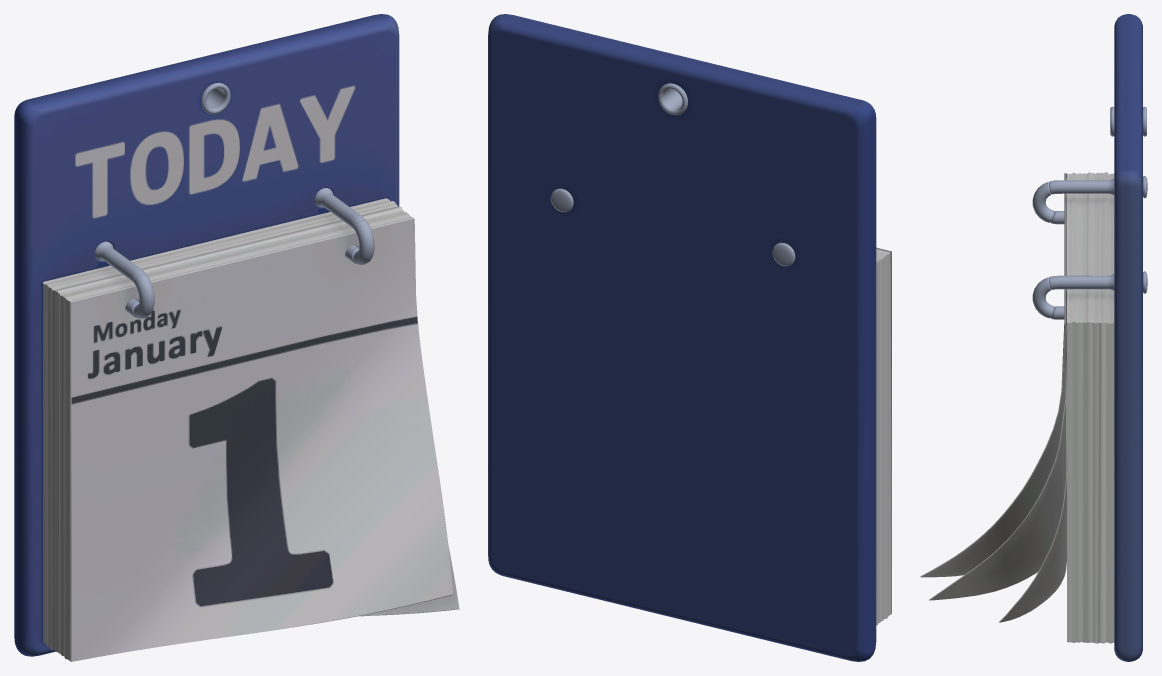
File: calendar 1.fbx
The picture shows the model from 3 angles, left to right: view 1: azimuth 30°, elevation 25°; view 2: azimuth 150°, elevation 25°; view 3: azimuth 270°, elevation 25°; orthographic projection. The views are drawn at different scales.
Visible parts, largest first — view 1: node_id53; view 2: node_id53; view 3: node_id53.
Boxes of the visible parts, left/top/right/bottom form: node_id53: left=14, top=14, right=459, bottom=661; node_id53: left=488, top=14, right=891, bottom=661; node_id53: left=920, top=14, right=1147, bottom=661.
Size of the model in its own units: 0.3668 by 0.512 by 0.2147.
Materials: 1 (1 with a texture image).
